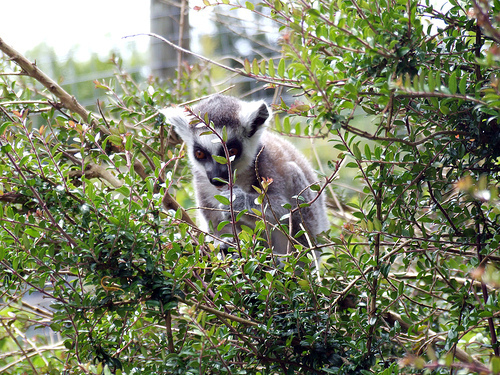cat: (157, 93, 329, 297)
